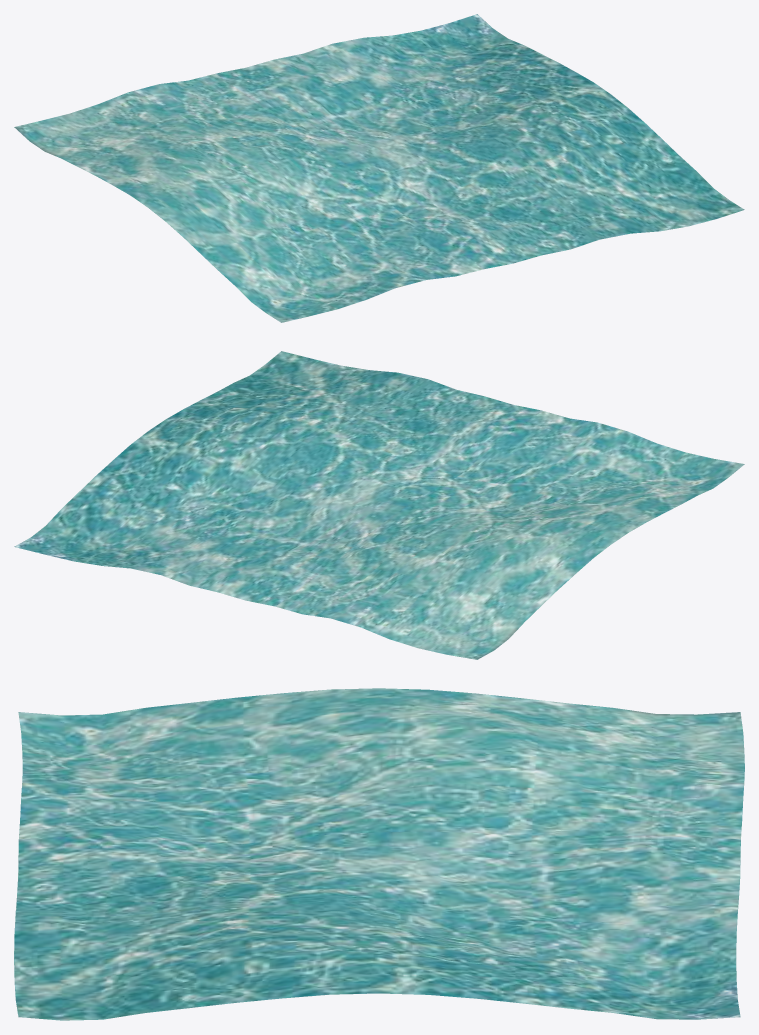
Rendered from water_000011.obj.
The picture shows the model from 3 angles, top to bottom: view 1: azimuth 30°, elevation 25°; view 2: azimuth 150°, elevation 25°; view 3: azimuth 270°, elevation 25°; orthographic projection. The views are drawn at different scales.
Visible parts, largest first — view 1: Plan.003_Plan.001; view 2: Plan.003_Plan.001; view 3: Plan.003_Plan.001.
Part boxes in pixels (x1,y1,x2,y2): Plan.003_Plan.001: (14,14,744,322); Plan.003_Plan.001: (14,351,744,659); Plan.003_Plan.001: (14,688,744,1020).
Bounding box in the file's own units: 60519 × 3372 × 61072.
1 material, 1 textured.
